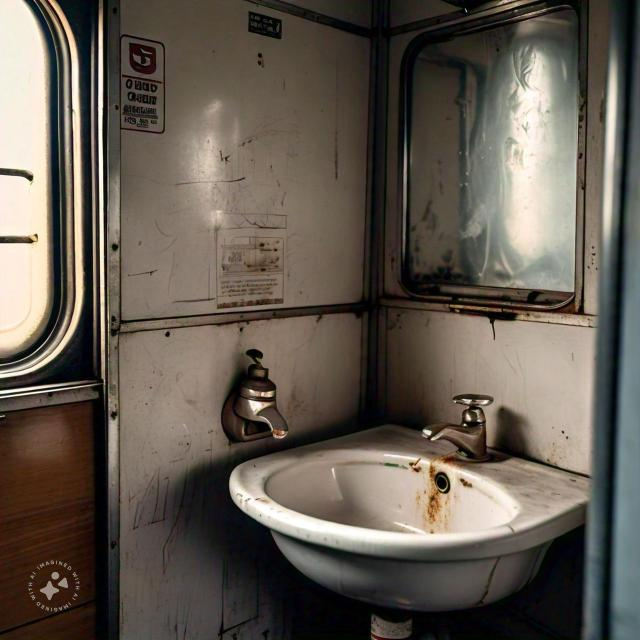Washbasin: (119, 302, 579, 599)
